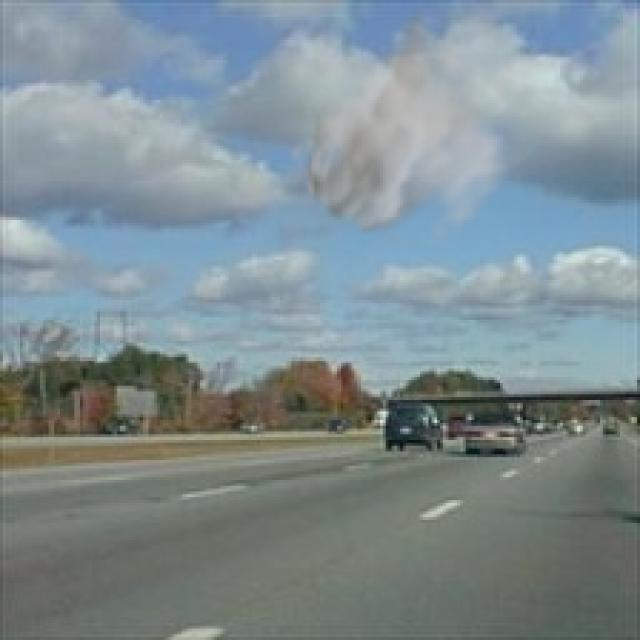Smoke: (286, 2, 518, 258)
